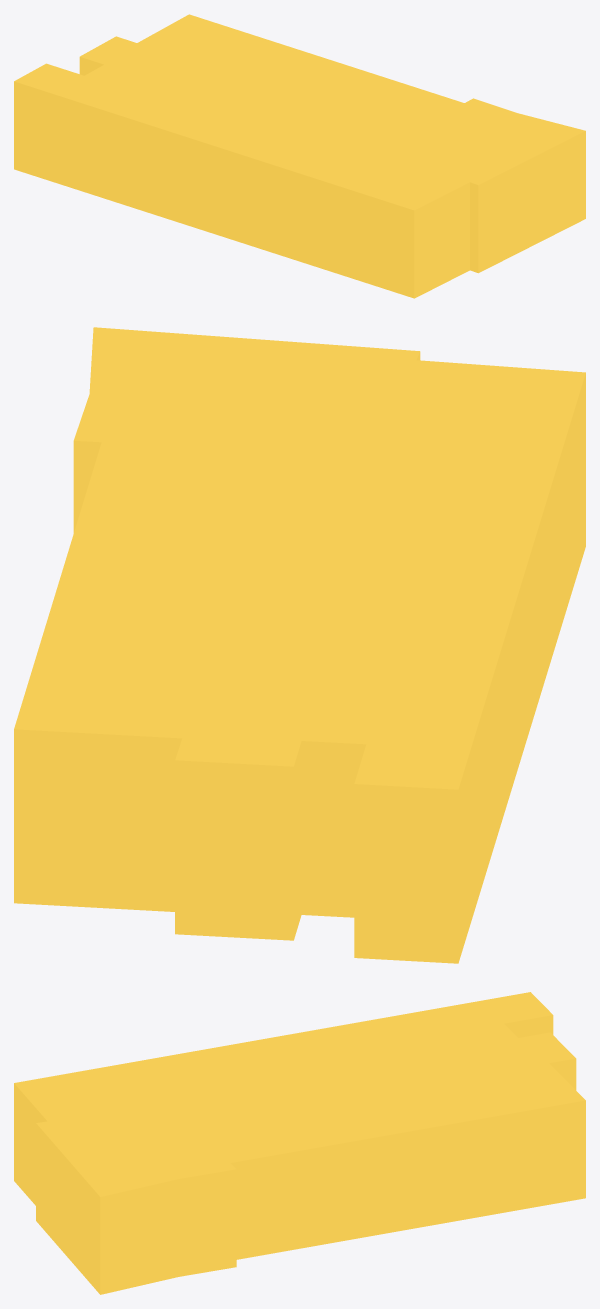
Rendered from HE'S JUST NOT THAT INTO YOU.fbx.
3 views of the same model, one above another, from view 1: azimuth 30°, elevation 25°; view 2: azimuth 150°, elevation 25°; view 3: azimuth 270°, elevation 25° (orthographic). The views are drawn at different scales.
Parts seen in each view (by area): view 1: ROUTE; view 2: ROUTE; view 3: ROUTE.
Boxes of the visible parts, bbox=[...] form: ROUTE: bbox=[14, 14, 585, 298]; ROUTE: bbox=[14, 327, 585, 963]; ROUTE: bbox=[14, 992, 585, 1294].
Size of the model in its own units: 19.76 by 23.28 by 4.39.
